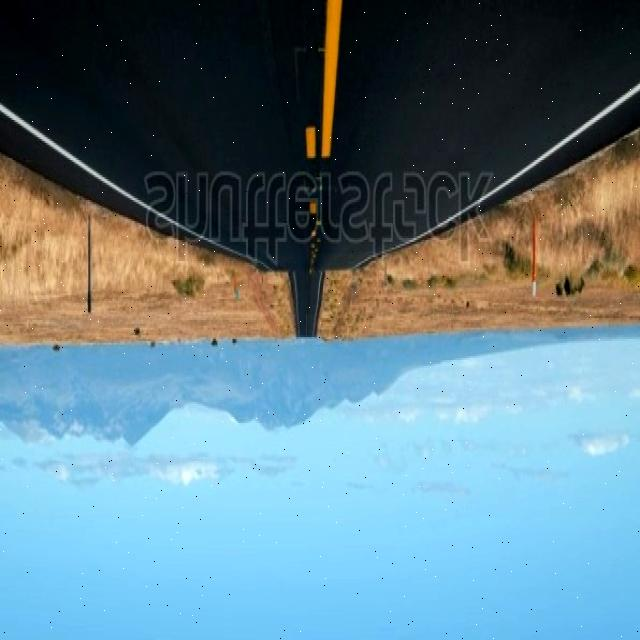lane: (321, 2, 341, 158), (305, 128, 315, 158)
road: (0, 4, 639, 337)
